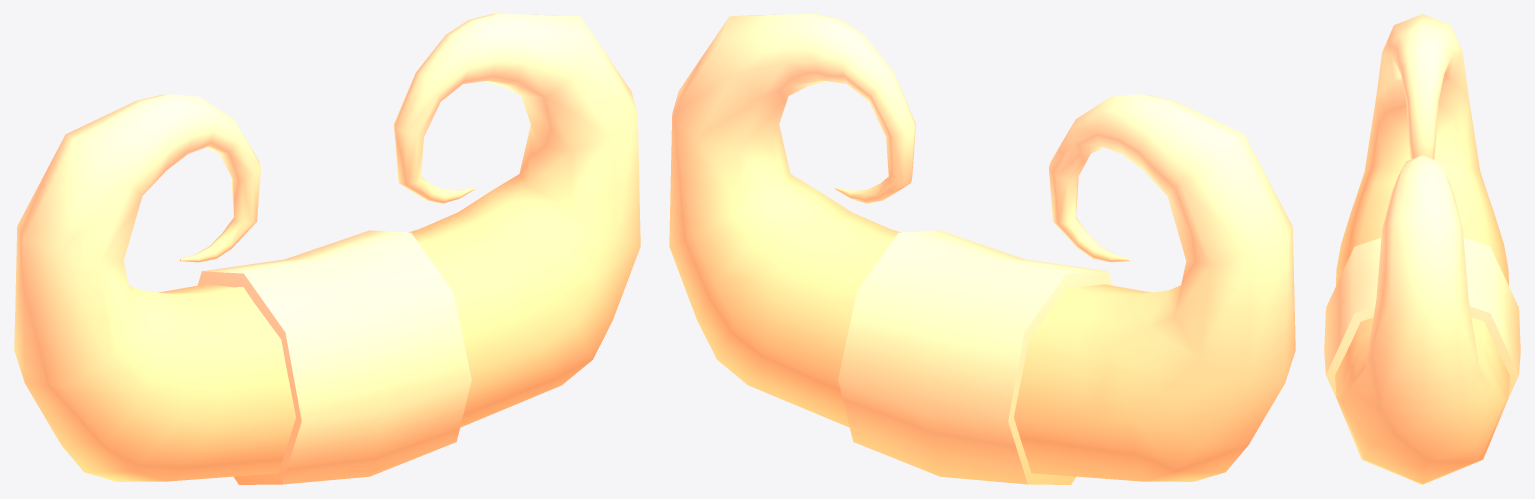
Rendered from wood_guard_071_004.glb.
3 views of the same model, side by side, from view 1: azimuth 30°, elevation 25°; view 2: azimuth 150°, elevation 25°; view 3: azimuth 270°, elevation 25° (orthographic). The views are drawn at different scales.
Parts seen in each view (by area): view 1: wood_guard_071.004; view 2: wood_guard_071.004; view 3: wood_guard_071.004.
Part boxes in pixels (box(x1,y1,x2,y2)): wood_guard_071.004: box(14, 14, 640, 484); wood_guard_071.004: box(669, 14, 1295, 484); wood_guard_071.004: box(1324, 14, 1520, 484).
Size of the model in its own units: 5.58 by 3.68 by 1.92.
Materials: 1 (1 with a texture image).
